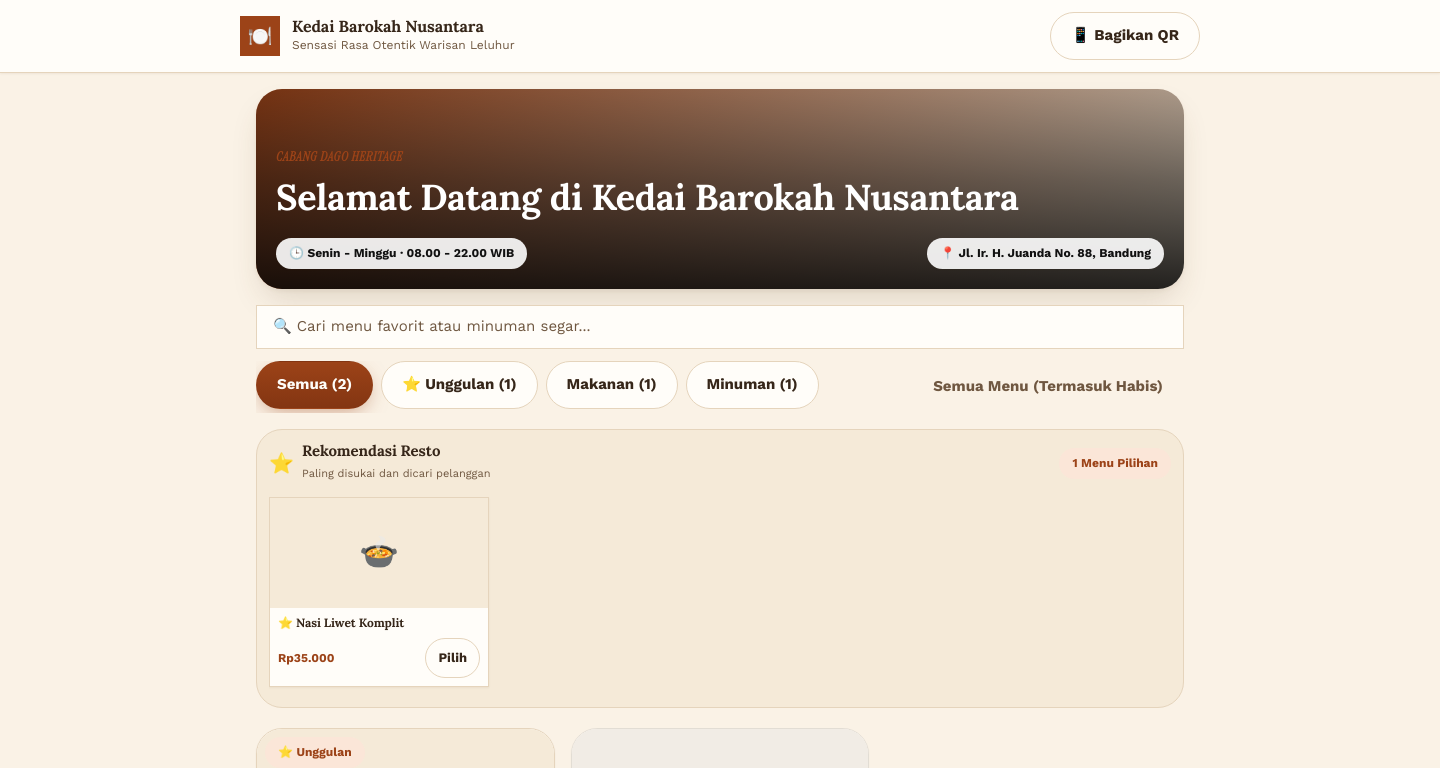
Test: Halaman Katalog Publik Per Resto (Katalog.tsx — T8-02) › melakukan pencarian menu secara langsung (real-time filtering)
The image size is (1440, 768).
Ketik pencarian "Liwet"
In the search field with test id "input-cari-menu": (720, 327) [256,305,1184,349], type "Liwet"
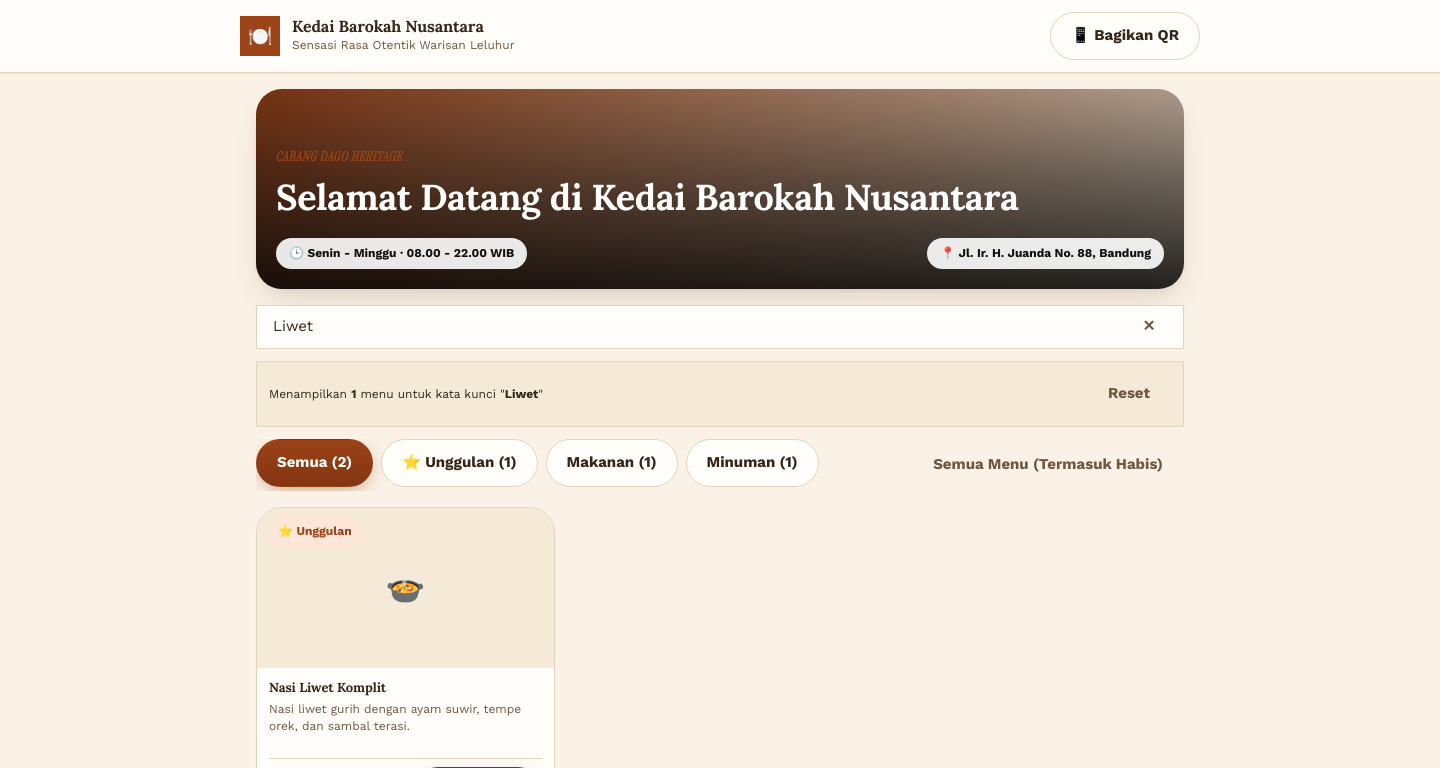
Expected: the heading "Nasi Liwet Komplit" is shown, [269,680,386,697]
Cari menu yang tidak ada
Replace the text in the search field with test id "input-cari-menu" with "Steak Wagyu": (720, 327) [256,305,1184,349]
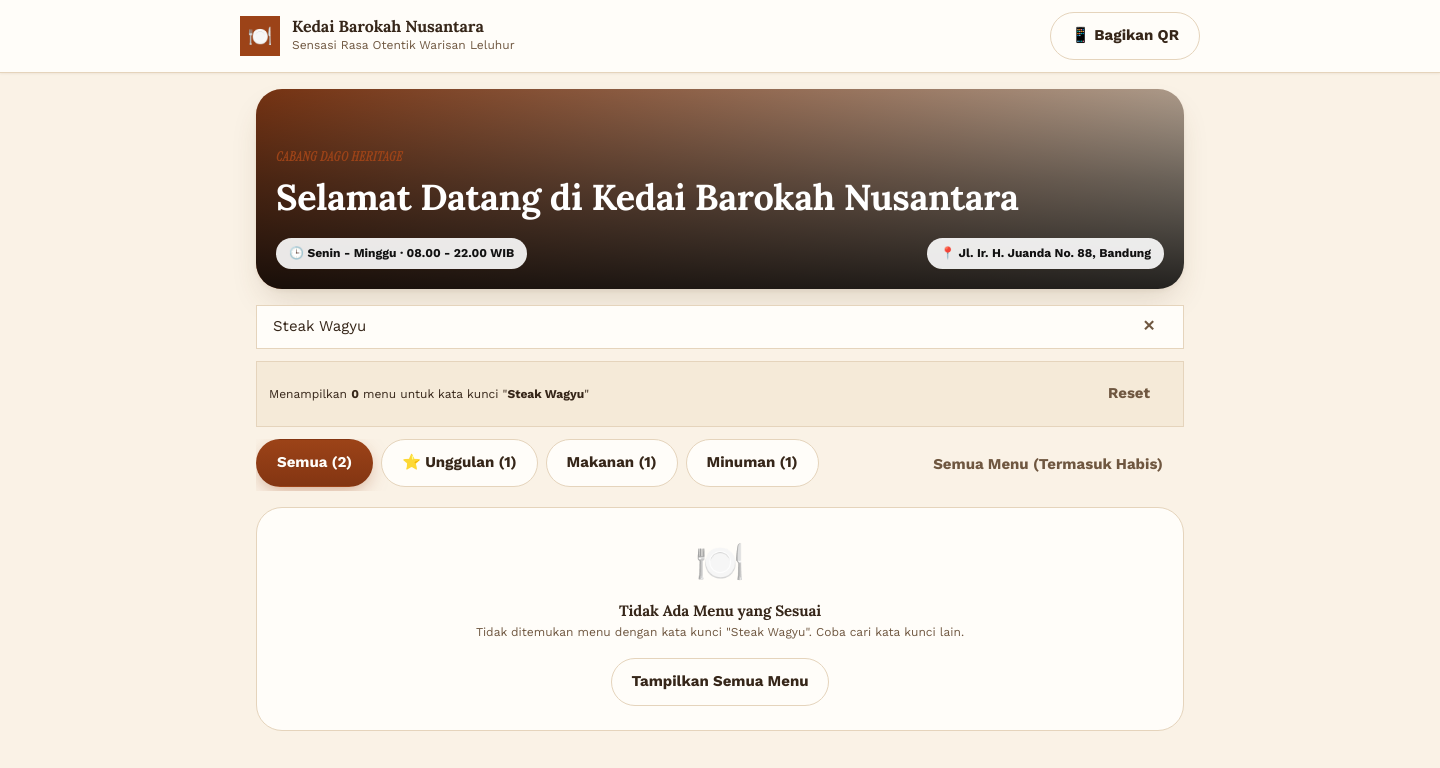
Expected: the element with test id "menu-kosong" is shown, [256,507,1184,731]
Expected: the heading "Tidak Ada Menu yang Sesuai" is shown, [619,601,821,620]
